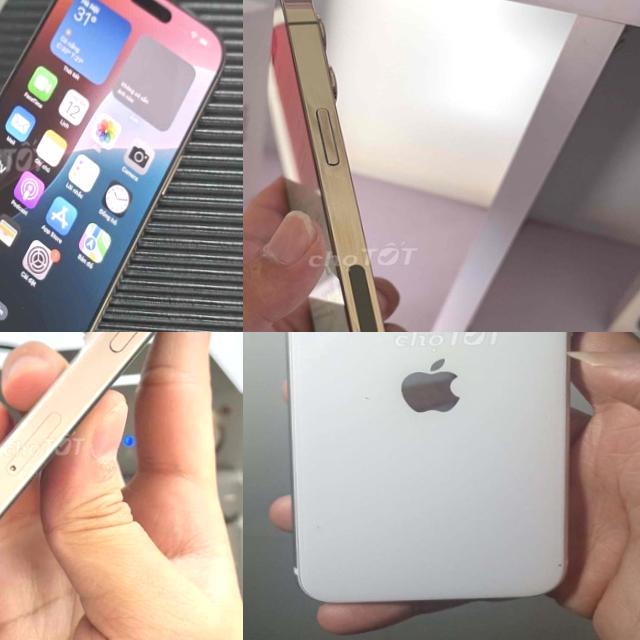gen_12_13: (258, 0, 437, 332)
gen_15: (0, 332, 243, 640)
gen_16: (0, 0, 238, 332)
gen_7_8: (266, 332, 600, 610)
scratch: (354, 392, 375, 403), (553, 554, 566, 568)
